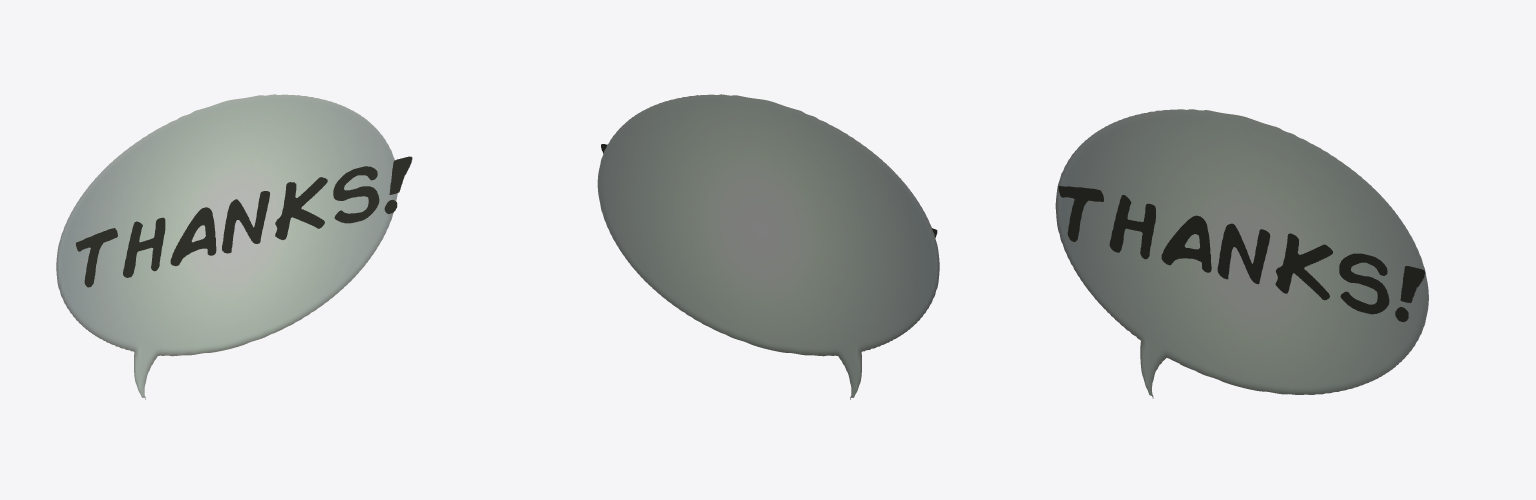
Rendered from Thanks Baloon.FBX.
The picture shows the model from 3 angles, left to right: view 1: azimuth 30°, elevation 25°; view 2: azimuth 150°, elevation 25°; view 3: azimuth 330°, elevation 25°; orthographic projection. The views are drawn at different scales.
Parts seen in each view (by area): view 1: Thanks Baloon; view 2: Thanks Baloon; view 3: Thanks Baloon.
Boxes of the visible parts, bbox=[...] form: Thanks Baloon: bbox=[56, 94, 412, 399]; Thanks Baloon: bbox=[597, 94, 939, 399]; Thanks Baloon: bbox=[1055, 109, 1428, 398].
Bounding box in the file's own units: 118 × 3.75 × 90.37.
